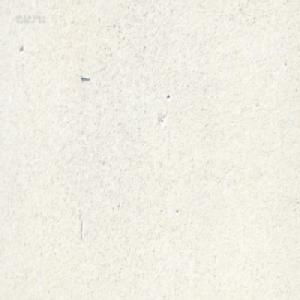Nail: (79, 73, 90, 80)
